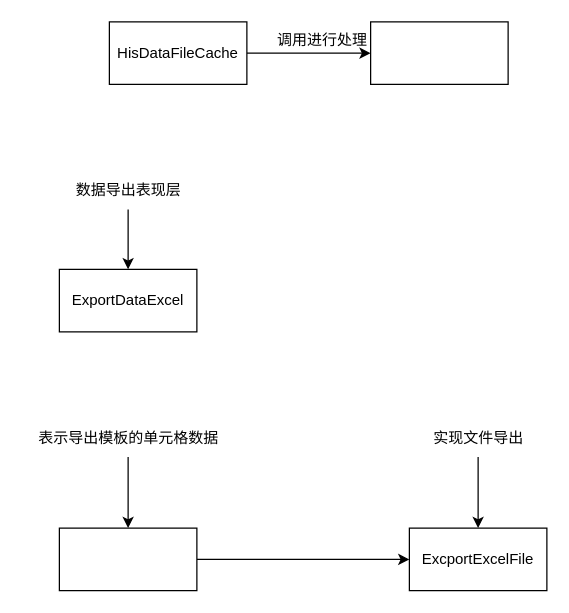
Some shapes in this 569 by 613 pixel diagram are drawn without their labels. The centre of each missing label's shape, as x and y in pixels:
"ExportTemplateCell" belongs at point 127,559.
"HisDataFileHandle" belongs at point 438,52.
